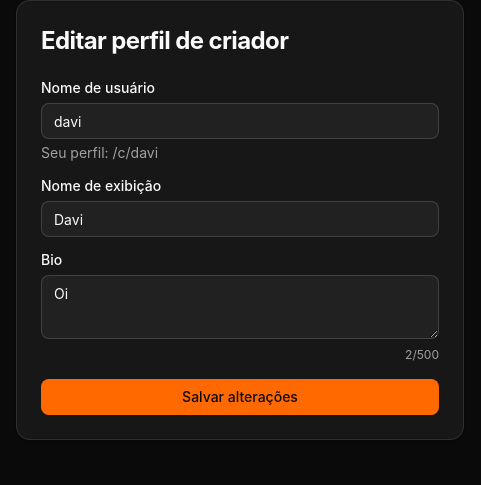
Test: EditCreatorProfilePage › shows HANDLE_TAKEN on the handle field
The width and height of the screenshot is (481, 485).
Replace the text in the field labelled "Nome de usuário" with "outro". click: (240, 121)
box: left=41, top=103, right=439, bottom=139
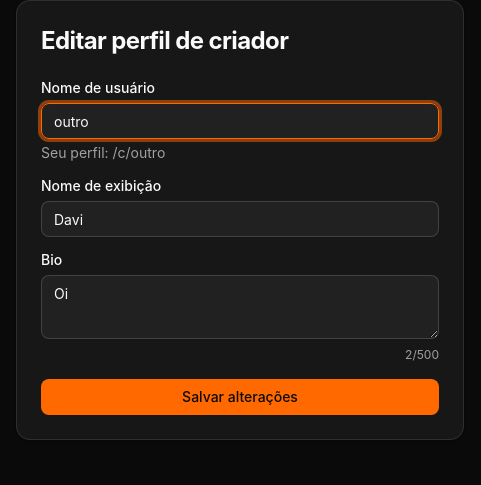
Click the button "Salvar alterações". click: click(240, 397)
box: left=41, top=379, right=439, bottom=415
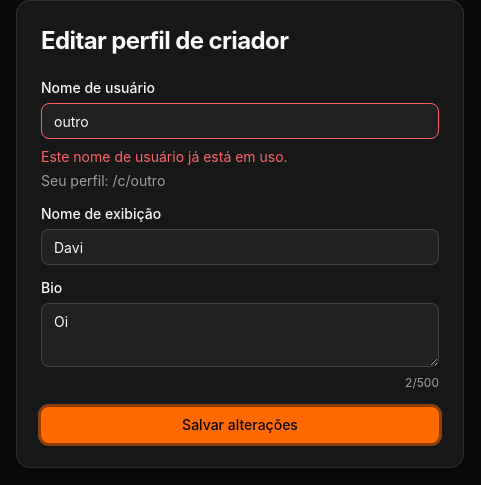
Now the text "Este nome de usuário já está em uso." is shown, box left=41, top=148, right=288, bottom=165
